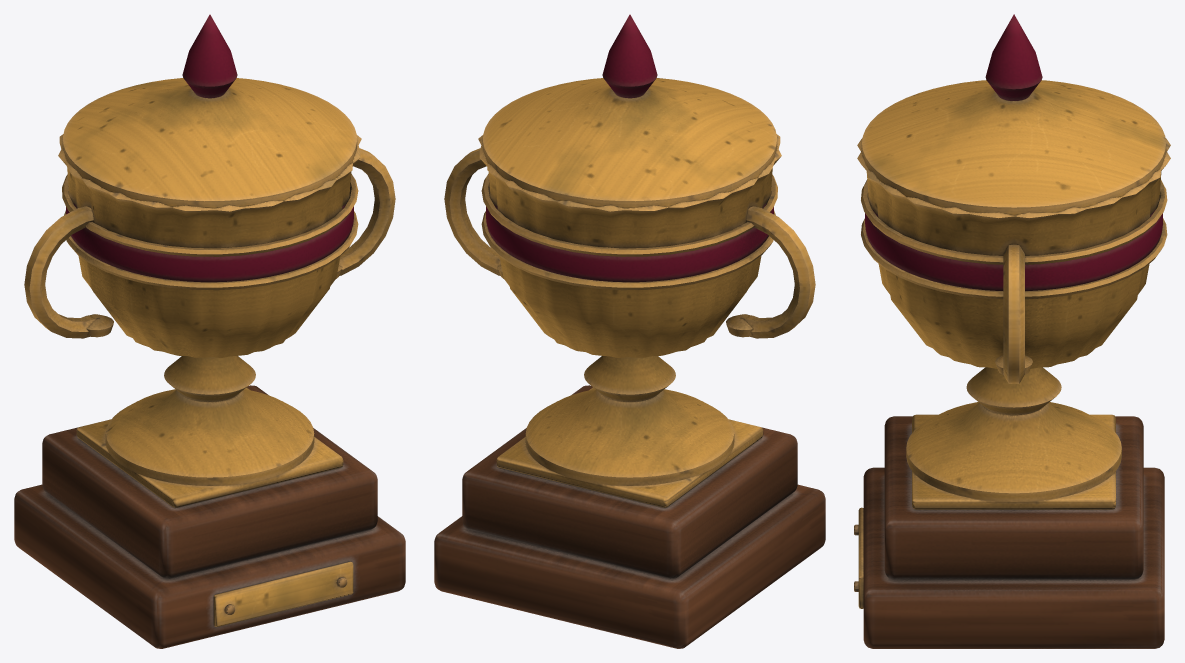
The model's file is ClubCup.fbx.
3 renders of one model, left to right at view 1: azimuth 30°, elevation 25°; view 2: azimuth 150°, elevation 25°; view 3: azimuth 270°, elevation 25°, orthographic. The views are drawn at different scales.
Visible parts, largest first — view 1: ClubCup; view 2: ClubCup; view 3: ClubCup.
Boxes of the visible parts, left/top/right/bottom form: ClubCup: left=14, top=14, right=405, bottom=648; ClubCup: left=434, top=14, right=825, bottom=648; ClubCup: left=854, top=14, right=1170, bottom=648.
Bounding box in the file's own units: 138 × 200 × 100.
